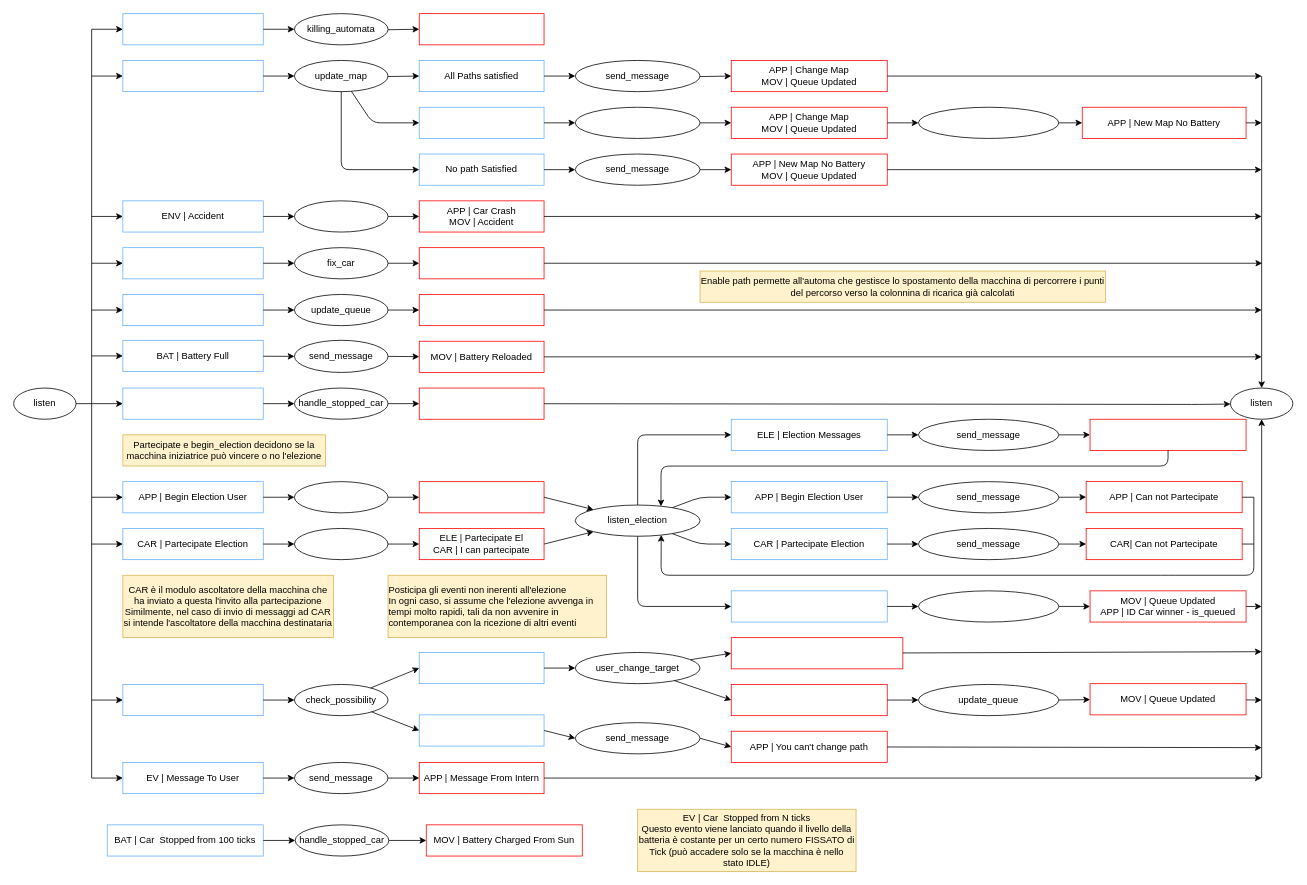
Some shapes in this 1307 by 885 pixel diagram are drawn without their labels. Here are the shapes that lost their labels. From the top down, the centre of each, then its label:
At (192,29): "ENV | Die".
At (481,29): "ALL | Die".
At (192,76): "ENV | Update Map".
At (481,122): "Someone Satisfied".
At (637,122): "send_message_to_satisfied".
At (988,122): "send_message_to_not_satisfied".
At (341,216): "crash_car".
At (192,263): "ENV | Fixed Car".
At (481,263): "MOV | Fixed Problems".
At (192,310): "BAT | Battery Low".
At (481,310): "MOV | Enable_Path_Charge".
At (192,403): "BAT | Car Stopped from N ticks".
At (481,403): "EV | Message Handled".
At (1167,434): "CAR | message Election".
At (341,497): "begin_election".
At (481,497): "ELE | Initiate Election".
At (341,544): "partecipate".
At (808,606): "ELE | Election Results".
At (988,606): "send_restults".
At (481,668): "1 user in queue".
At (816,653): "APP | Not enough battery for new dest".
At (192,700): "APP | User Change Dest".
At (808,700): "APP | Path Found".
At (481,730): "N users in queue".
